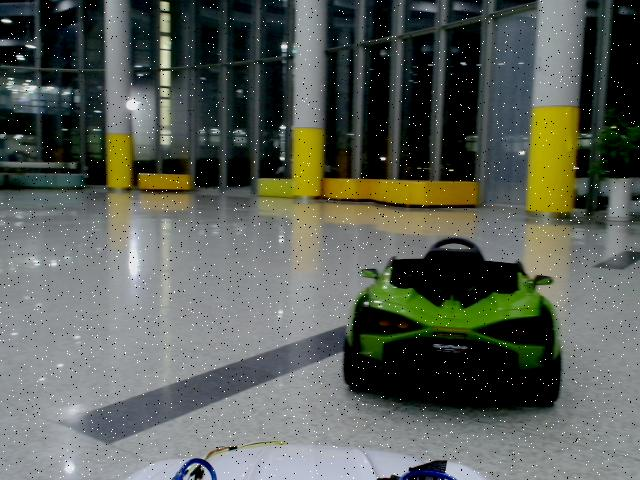car: (343, 238, 562, 408)
